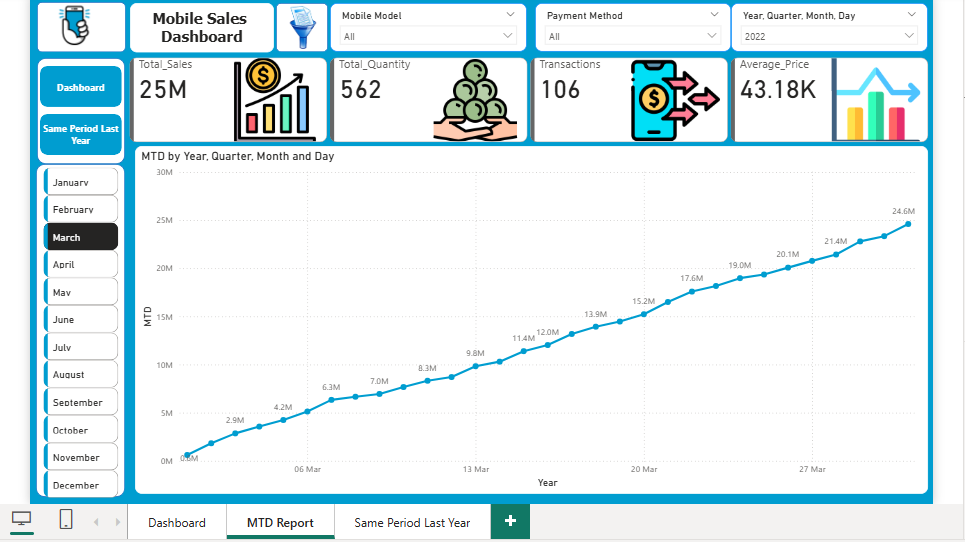

The dashboard page shown, as its layout file describes it:
{"tool":"powerbi","page":{"name":"MTD Report","canvas":[1280,720],"ordinal":1},"visuals":[{"type":"shape","box":[10.2,8.6,125.7,71.1],"z":0},{"type":"image","box":[15.8,0,95.5,82.7],"z":1000},{"type":"shape","box":[9.9,87.9,124.7,150.2],"z":2000},{"type":"cardVisual","fields":{"Data":["Sales_Data.Total_Sales","Sales_Data.Total_Quantity","Sales_Data.Transactions","Sales_Data.Average_Price"]},"box":[136.1,82.2,1143.8,130.4],"z":3000},{"type":"slicer","fields":{"Values":["Sales_Data.Mobile Model"]},"box":[425.1,10,279,69.4],"z":4000},{"type":"slicer","fields":{"Values":["Sales_Data.Payment Method"]},"box":[715.7,9.9,277.8,69.4],"z":5000},{"type":"slicer","fields":{"Values":["Custom_Calendar.Date.Variation.Date Hierarchy.Year","Custom_Calendar.Date.Variation.Date Hierarchy.Quarter","Custom_Calendar.Date.Variation.Date Hierarchy.Month","Custom_Calendar.Date.Variation.Date Hierarchy.Day"]},"box":[993.2,10,279.5,69.4],"z":6000},{"type":"shape","box":[348.7,9.9,73.7,69.4],"z":7000},{"type":"image","box":[294.3,4.6,182.9,77.7],"z":8000},{"type":"textbox","box":[141.1,9.9,203.6,69.6],"z":9000},{"type":"lineChart","fields":{"Y":["Sales_Data.MTD"],"Category":["Custom_Calendar.Date.Variation.Date Hierarchy.Year","Custom_Calendar.Date.Variation.Date Hierarchy.Quarter","Custom_Calendar.Date.Variation.Date Hierarchy.Month","Custom_Calendar.Date.Variation.Date Hierarchy.Day"]},"box":[148.8,212.6,1123.9,493.2],"z":10000},{"type":"shape","box":[8.5,238.1,126.1,472],"z":11000},{"type":"advancedSlicerVisual","fields":{"Values":["Custom_Calendar.Date.Variation.Date Hierarchy.Month"]},"box":[14.2,238.1,116.2,481.9],"z":12000},{"type":"pageNavigator","box":[14.2,99.2,116.2,126.1],"z":13000}]}

Visuals, with their boxes on the page's 1280x720 design canvas (x1, y1, x2, y2). These are canvas units, not pixel positions in the 965x542 screenshot, which may show the page scaled, cropped or inside an application window:
shape: left=10, top=9, right=136, bottom=80
image: left=16, top=0, right=111, bottom=83
shape: left=10, top=88, right=135, bottom=238
cardVisual - Sales_Data.Total_Sales x Sales_Data.Total_Quantity: left=136, top=82, right=1280, bottom=213
slicer - Sales_Data.Mobile Model: left=425, top=10, right=704, bottom=79
slicer - Sales_Data.Payment Method: left=716, top=10, right=994, bottom=79
slicer - Custom_Calendar.Date.Variation.Date Hierarchy.Year x Custom_Calendar.Date.Variation.Date Hierarchy.Quarter: left=993, top=10, right=1273, bottom=79
shape: left=349, top=10, right=422, bottom=79
image: left=294, top=5, right=477, bottom=82
textbox: left=141, top=10, right=345, bottom=80
lineChart - Sales_Data.MTD x Custom_Calendar.Date.Variation.Date Hierarchy.Year: left=149, top=213, right=1273, bottom=706
shape: left=8, top=238, right=135, bottom=710
advancedSlicerVisual - Custom_Calendar.Date.Variation.Date Hierarchy.Month: left=14, top=238, right=130, bottom=720
pageNavigator: left=14, top=99, right=130, bottom=225
